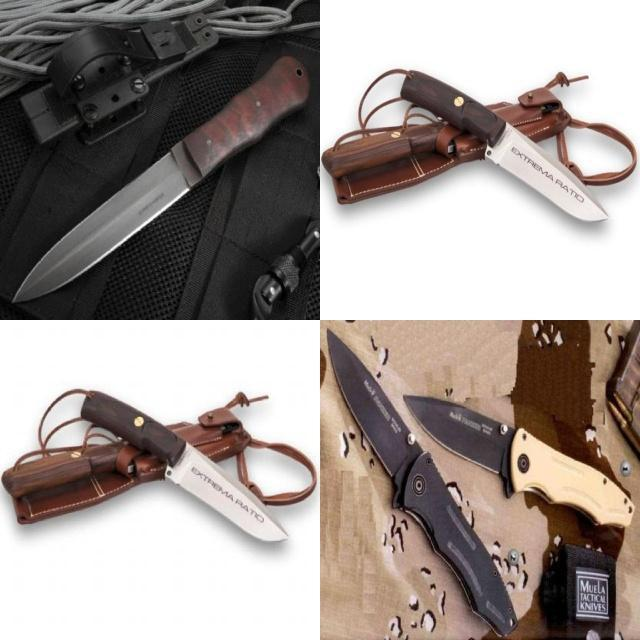-: (9, 117, 223, 305), (325, 325, 428, 511), (157, 432, 296, 547), (477, 111, 615, 226), (399, 389, 524, 500)
